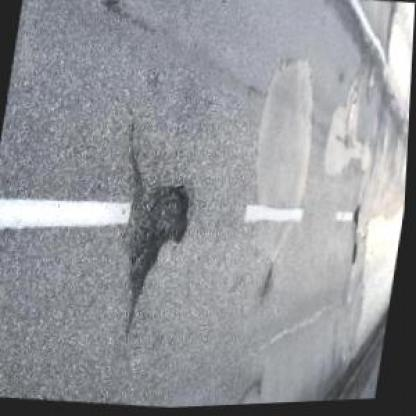pothole: (118, 174, 198, 300), (352, 208, 368, 230), (352, 245, 362, 269)
